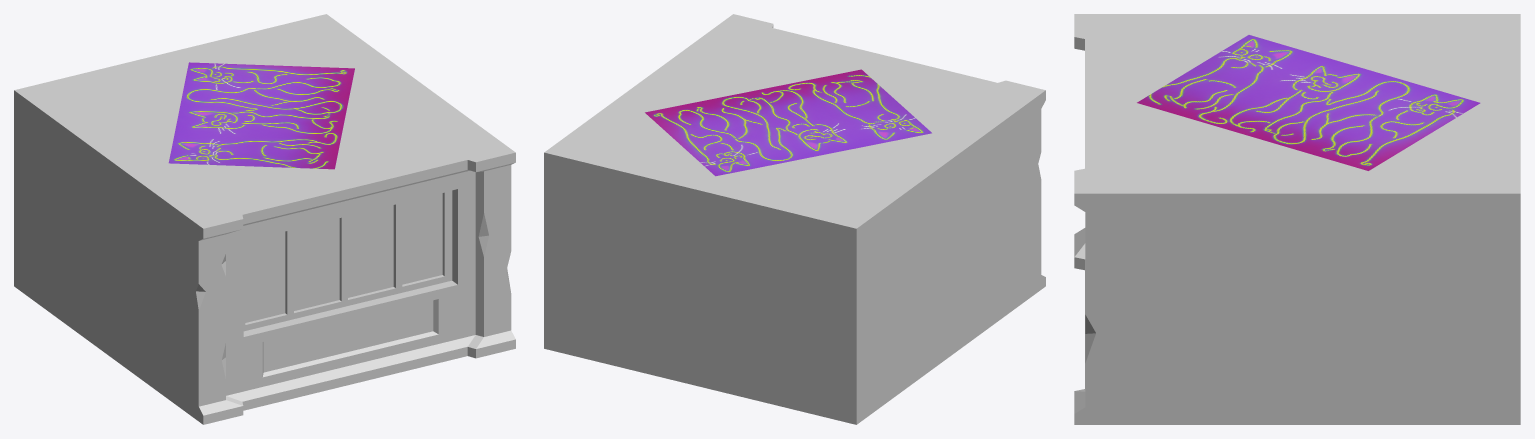
The model's file is 07_building.fbx.
3 views of the same model, side by side, from view 1: azimuth 30°, elevation 25°; view 2: azimuth 150°, elevation 25°; view 3: azimuth 270°, elevation 25° (orthographic). The views are drawn at different scales.
Parts seen in each view (by area): view 1: 07_building, building; view 2: 07_building, building; view 3: 07_building, building.
Part boxes in pixels (box(x1,y1,x2,y2)): 07_building: box(14, 14, 515, 424); building: box(168, 62, 354, 169); 07_building: box(544, 14, 1045, 424); building: box(645, 69, 931, 176); 07_building: box(1074, 14, 1520, 424); building: box(1137, 35, 1480, 170).
Bounding box in the file's own units: 500 × 302 × 525.
